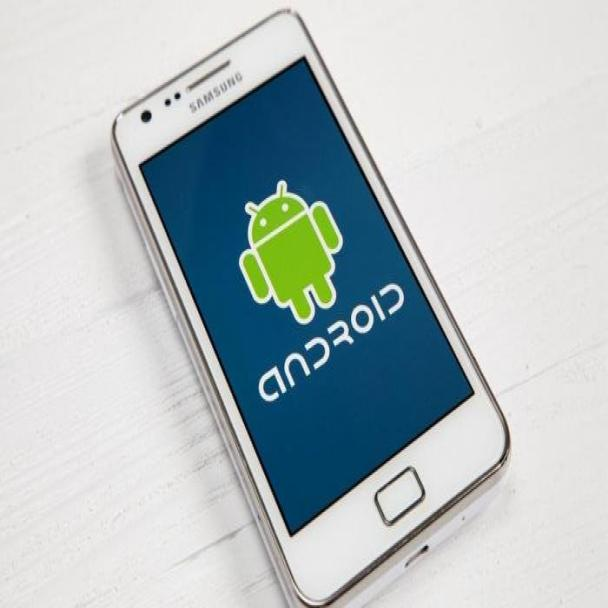Handphone: (105, 1, 517, 608)
